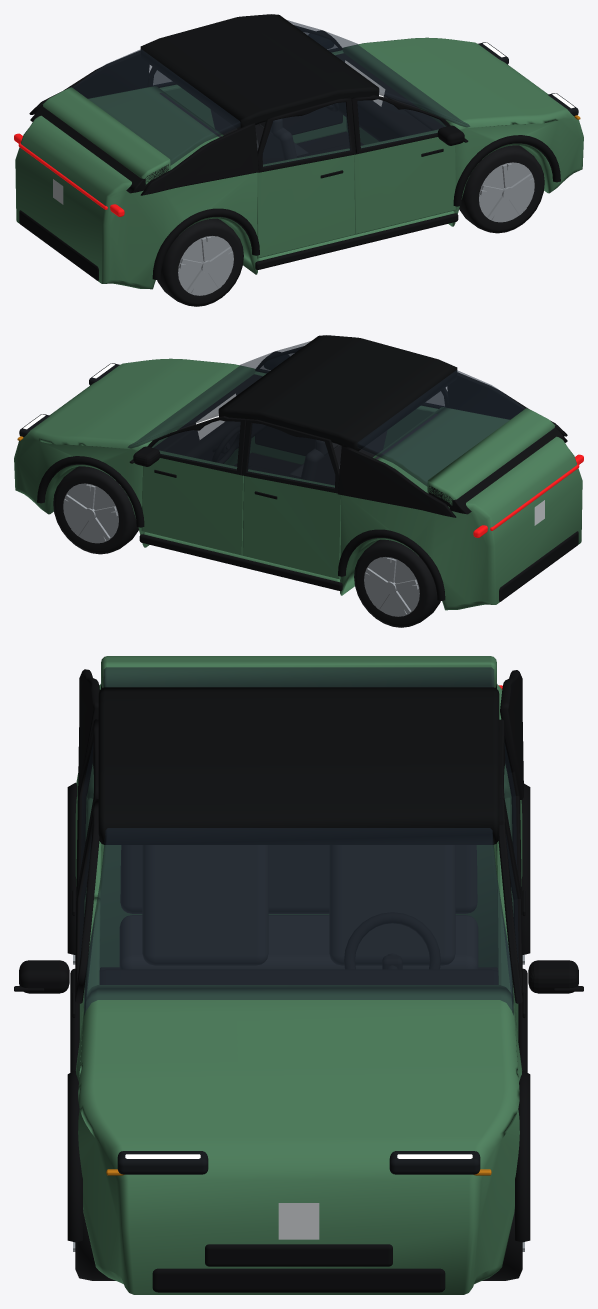
File: car-megane.glb
3 renders of one model, top to bottom at view 1: azimuth 30°, elevation 25°; view 2: azimuth 150°, elevation 25°; view 3: azimuth 270°, elevation 25°, orthographic. The views are drawn at different scales.
Visible parts, largest first — view 1: Body_paint, Body_roof, Body_black, Body_glass, Door_RR_paint, Door_FR_paint, Door_RR_glass, Interior_plastic, Wheel_RR_Tyre, Wheel_FR_Tyre, Door_FR_glass, Wheel_RR_Rim (+9 smaller); view 2: Body_paint, Body_roof, Body_black, Body_glass, Door_RL_paint, Door_FL_paint, Door_RL_glass, Interior_plastic, Wheel_RL_Tyre, Wheel_FL_Tyre, Door_FL_glass, Wheel_RL_Rim (+10 smaller); view 3: Body_paint, Body_glass, Body_roof, Interior_fabric, Body_black, Interior_plastic, Door_FL_black, Door_FR_black, Body_lens, Door_RR_black, Door_RL_black, Logo_Front (+6 smaller).
Boxes of the visible parts, x1,y1,x2,y2 form: Body_paint: [15, 37, 583, 289]; Body_roof: [140, 14, 379, 129]; Body_black: [19, 50, 560, 280]; Body_glass: [72, 20, 469, 165]; Door_RR_paint: [257, 148, 355, 258]; Door_FR_paint: [354, 129, 456, 234]; Door_RR_glass: [262, 102, 350, 166]; Interior_plastic: [297, 53, 443, 157]; Wheel_RR_Tyre: [157, 218, 243, 306]; Wheel_FR_Tyre: [459, 145, 544, 233]; Door_FR_glass: [357, 99, 446, 148]; Wheel_RR_Rim: [178, 236, 233, 295]; Body_paint: [14, 358, 582, 610]; Body_roof: [218, 335, 457, 451]; Body_black: [37, 372, 578, 601]; Body_glass: [128, 341, 525, 486]; Door_RL_paint: [242, 469, 340, 579]; Door_FL_paint: [141, 450, 243, 555]; Door_RL_glass: [247, 423, 335, 487]; Interior_plastic: [154, 374, 300, 478]; Wheel_RL_Tyre: [354, 539, 440, 627]; Wheel_FL_Tyre: [53, 466, 138, 554]; Door_FL_glass: [151, 420, 240, 469]; Wheel_RL_Rim: [364, 557, 419, 616]; Body_paint: [75, 656, 522, 1294]; Body_glass: [84, 667, 513, 1014]; Body_roof: [98, 687, 499, 844]; Interior_fabric: [119, 845, 478, 969]; Body_black: [67, 669, 530, 1292]; Interior_plastic: [99, 912, 498, 984]; Door_FL_black: [498, 798, 583, 1017]; Door_FR_black: [14, 798, 99, 1017]; Body_lens: [117, 1151, 480, 1174]; Door_RR_black: [72, 719, 98, 915]; Door_RL_black: [499, 719, 525, 915]; Logo_Front: [278, 1203, 319, 1239].
Size of the model in its own units: 4.33 by 1.52 by 2.26.
